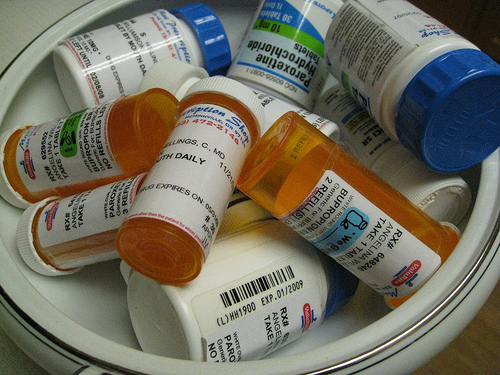pill bottle: (235, 111, 463, 307), (117, 73, 267, 287), (4, 86, 183, 209), (12, 167, 158, 282)
